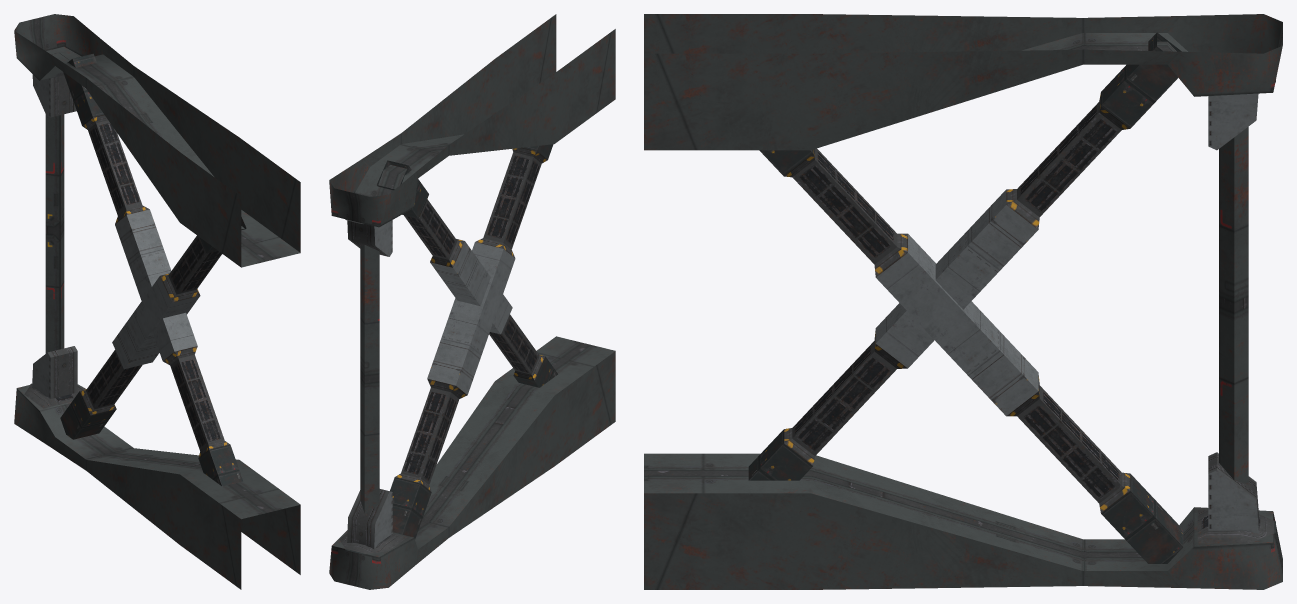
Rendered from ARC0910126.fbx.
3 renders of one model, left to right at view 1: azimuth 30°, elevation 25°; view 2: azimuth 150°, elevation 25°; view 3: azimuth 270°, elevation 25°, orthographic. The views are drawn at different scales.
Parts seen in each view (by area): view 1: smARC0910126; view 2: smARC0910126; view 3: smARC0910126.
Part boxes in pixels (x1,y1,x2,y2): smARC0910126: (14,14,300,589); smARC0910126: (329,14,615,589); smARC0910126: (644,14,1282,589).
Bounding box in the file's own units: 46.08 × 291 × 314.
Materials: 1 (1 with a texture image).
